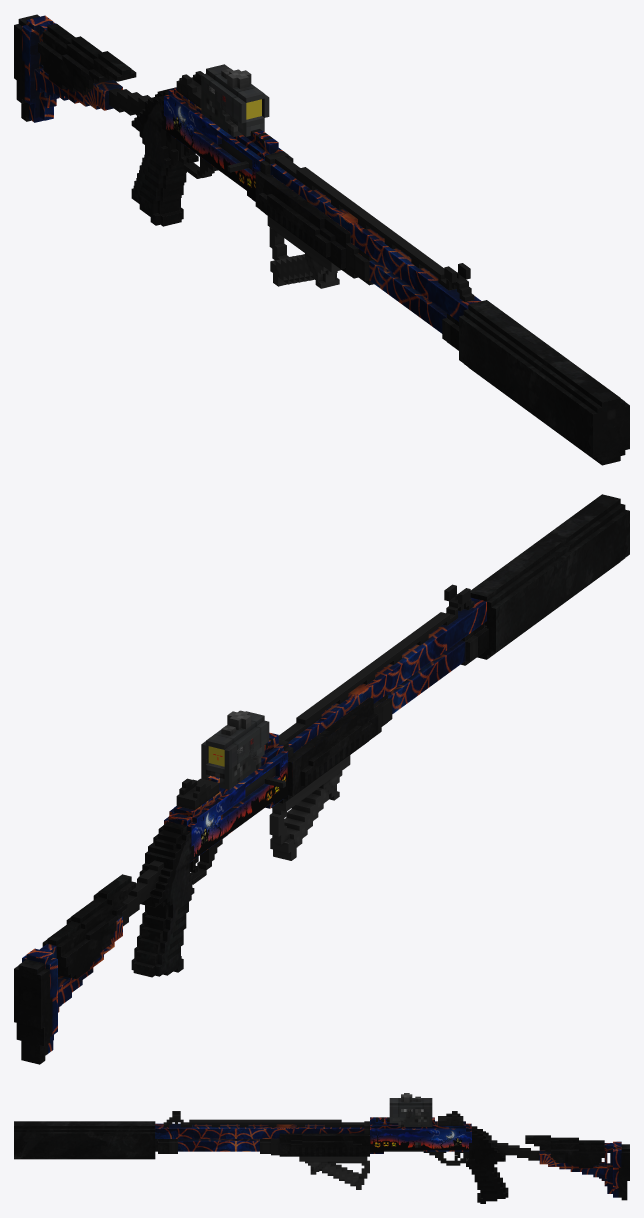
File: RD_M4_SCARY.glb
3 views of the same model, one above another, from view 1: azimuth 30°, elevation 25°; view 2: azimuth 150°, elevation 25°; view 3: azimuth 270°, elevation 25° (orthographic). The views are drawn at different scales.
Visible parts, largest first — view 1: BENELLI_M4, BENELLI_M4_SILENCER, SCOPE_TASCO, GRIP2, SCOPE_EOTECH; view 2: BENELLI_M4, BENELLI_M4_SILENCER, GRIP2, SCOPE_TASCO, SCOPE_EOTECH; view 3: BENELLI_M4, BENELLI_M4_SILENCER, GRIP2, SCOPE_TASCO, SCOPE_EOTECH.
Boxes of the visible parts, left/top/right/bottom form: BENELLI_M4: left=14, top=14, right=481, bottom=350; BENELLI_M4_SILENCER: left=459, top=300, right=629, bottom=465; SCOPE_TASCO: left=201, top=64, right=269, bottom=136; GRIP2: left=267, top=216, right=340, bottom=288; SCOPE_EOTECH: left=201, top=84, right=264, bottom=136; BENELLI_M4: left=14, top=584, right=488, bottom=1064; BENELLI_M4_SILENCER: left=470, top=494, right=629, bottom=659; GRIP2: left=269, top=755, right=350, bottom=860; SCOPE_TASCO: left=201, top=710, right=269, bottom=783; SCOPE_EOTECH: left=201, top=744, right=264, bottom=789; BENELLI_M4: left=155, top=1111, right=629, bottom=1203; BENELLI_M4_SILENCER: left=14, top=1121, right=155, bottom=1159; GRIP2: left=299, top=1156, right=369, bottom=1189; SCOPE_TASCO: left=389, top=1093, right=432, bottom=1126; SCOPE_EOTECH: left=389, top=1109, right=432, bottom=1126.
Size of the model in its own units: 0.1082 by 0.4034 by 2.15.
9 materials, 9 textured.
